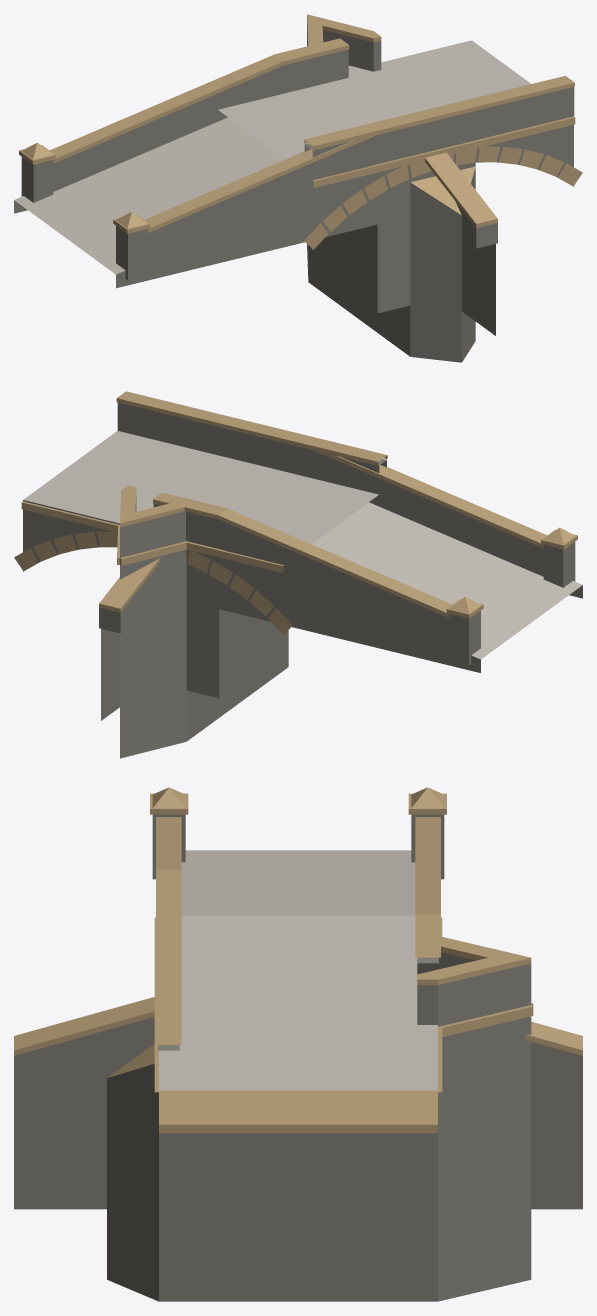
Rendered from wasser_steinbruecke.glb.
3 renders of one model, top to bottom at view 1: azimuth 30°, elevation 25°; view 2: azimuth 150°, elevation 25°; view 3: azimuth 270°, elevation 25°, orthographic. The views are drawn at different scales.
Parts seen in each view (by area): view 1: Stein_Rampe, Stein_Pfeiler, Stein_Bogen, Stein_Bruestung; view 2: Stein_Rampe, Stein_Bogen, Stein_Pfeiler, Stein_Bruestung; view 3: Stein_Pfeiler, Stein_Rampe, Stein_Bogen, Stein_Bruestung.
Part boxes in pixels (x1=…): Stein_Rampe: x1=14, y1=38, x2=497, y2=335; Stein_Pfeiler: x1=307, y1=14, x2=476, y2=362; Stein_Bogen: x1=218, y1=40, x2=582, y2=250; Stein_Bruestung: x1=304, y1=76, x2=574, y2=178; Stein_Rampe: x1=99, y1=423, x2=582, y2=720; Stein_Bogen: x1=14, y1=431, x2=378, y2=634; Stein_Pfeiler: x1=117, y1=415, x2=288, y2=758; Stein_Bruestung: x1=116, y1=391, x2=387, y2=493; Stein_Pfeiler: x1=107, y1=936, x2=533, y2=1301; Stein_Rampe: x1=14, y1=787, x2=582, y2=1209; Stein_Bogen: x1=154, y1=915, x2=442, y2=1092; Stein_Bruestung: x1=156, y1=870, x2=181, y2=1050.
Size of the model in its own units: 14.27 by 6.87 by 11.
